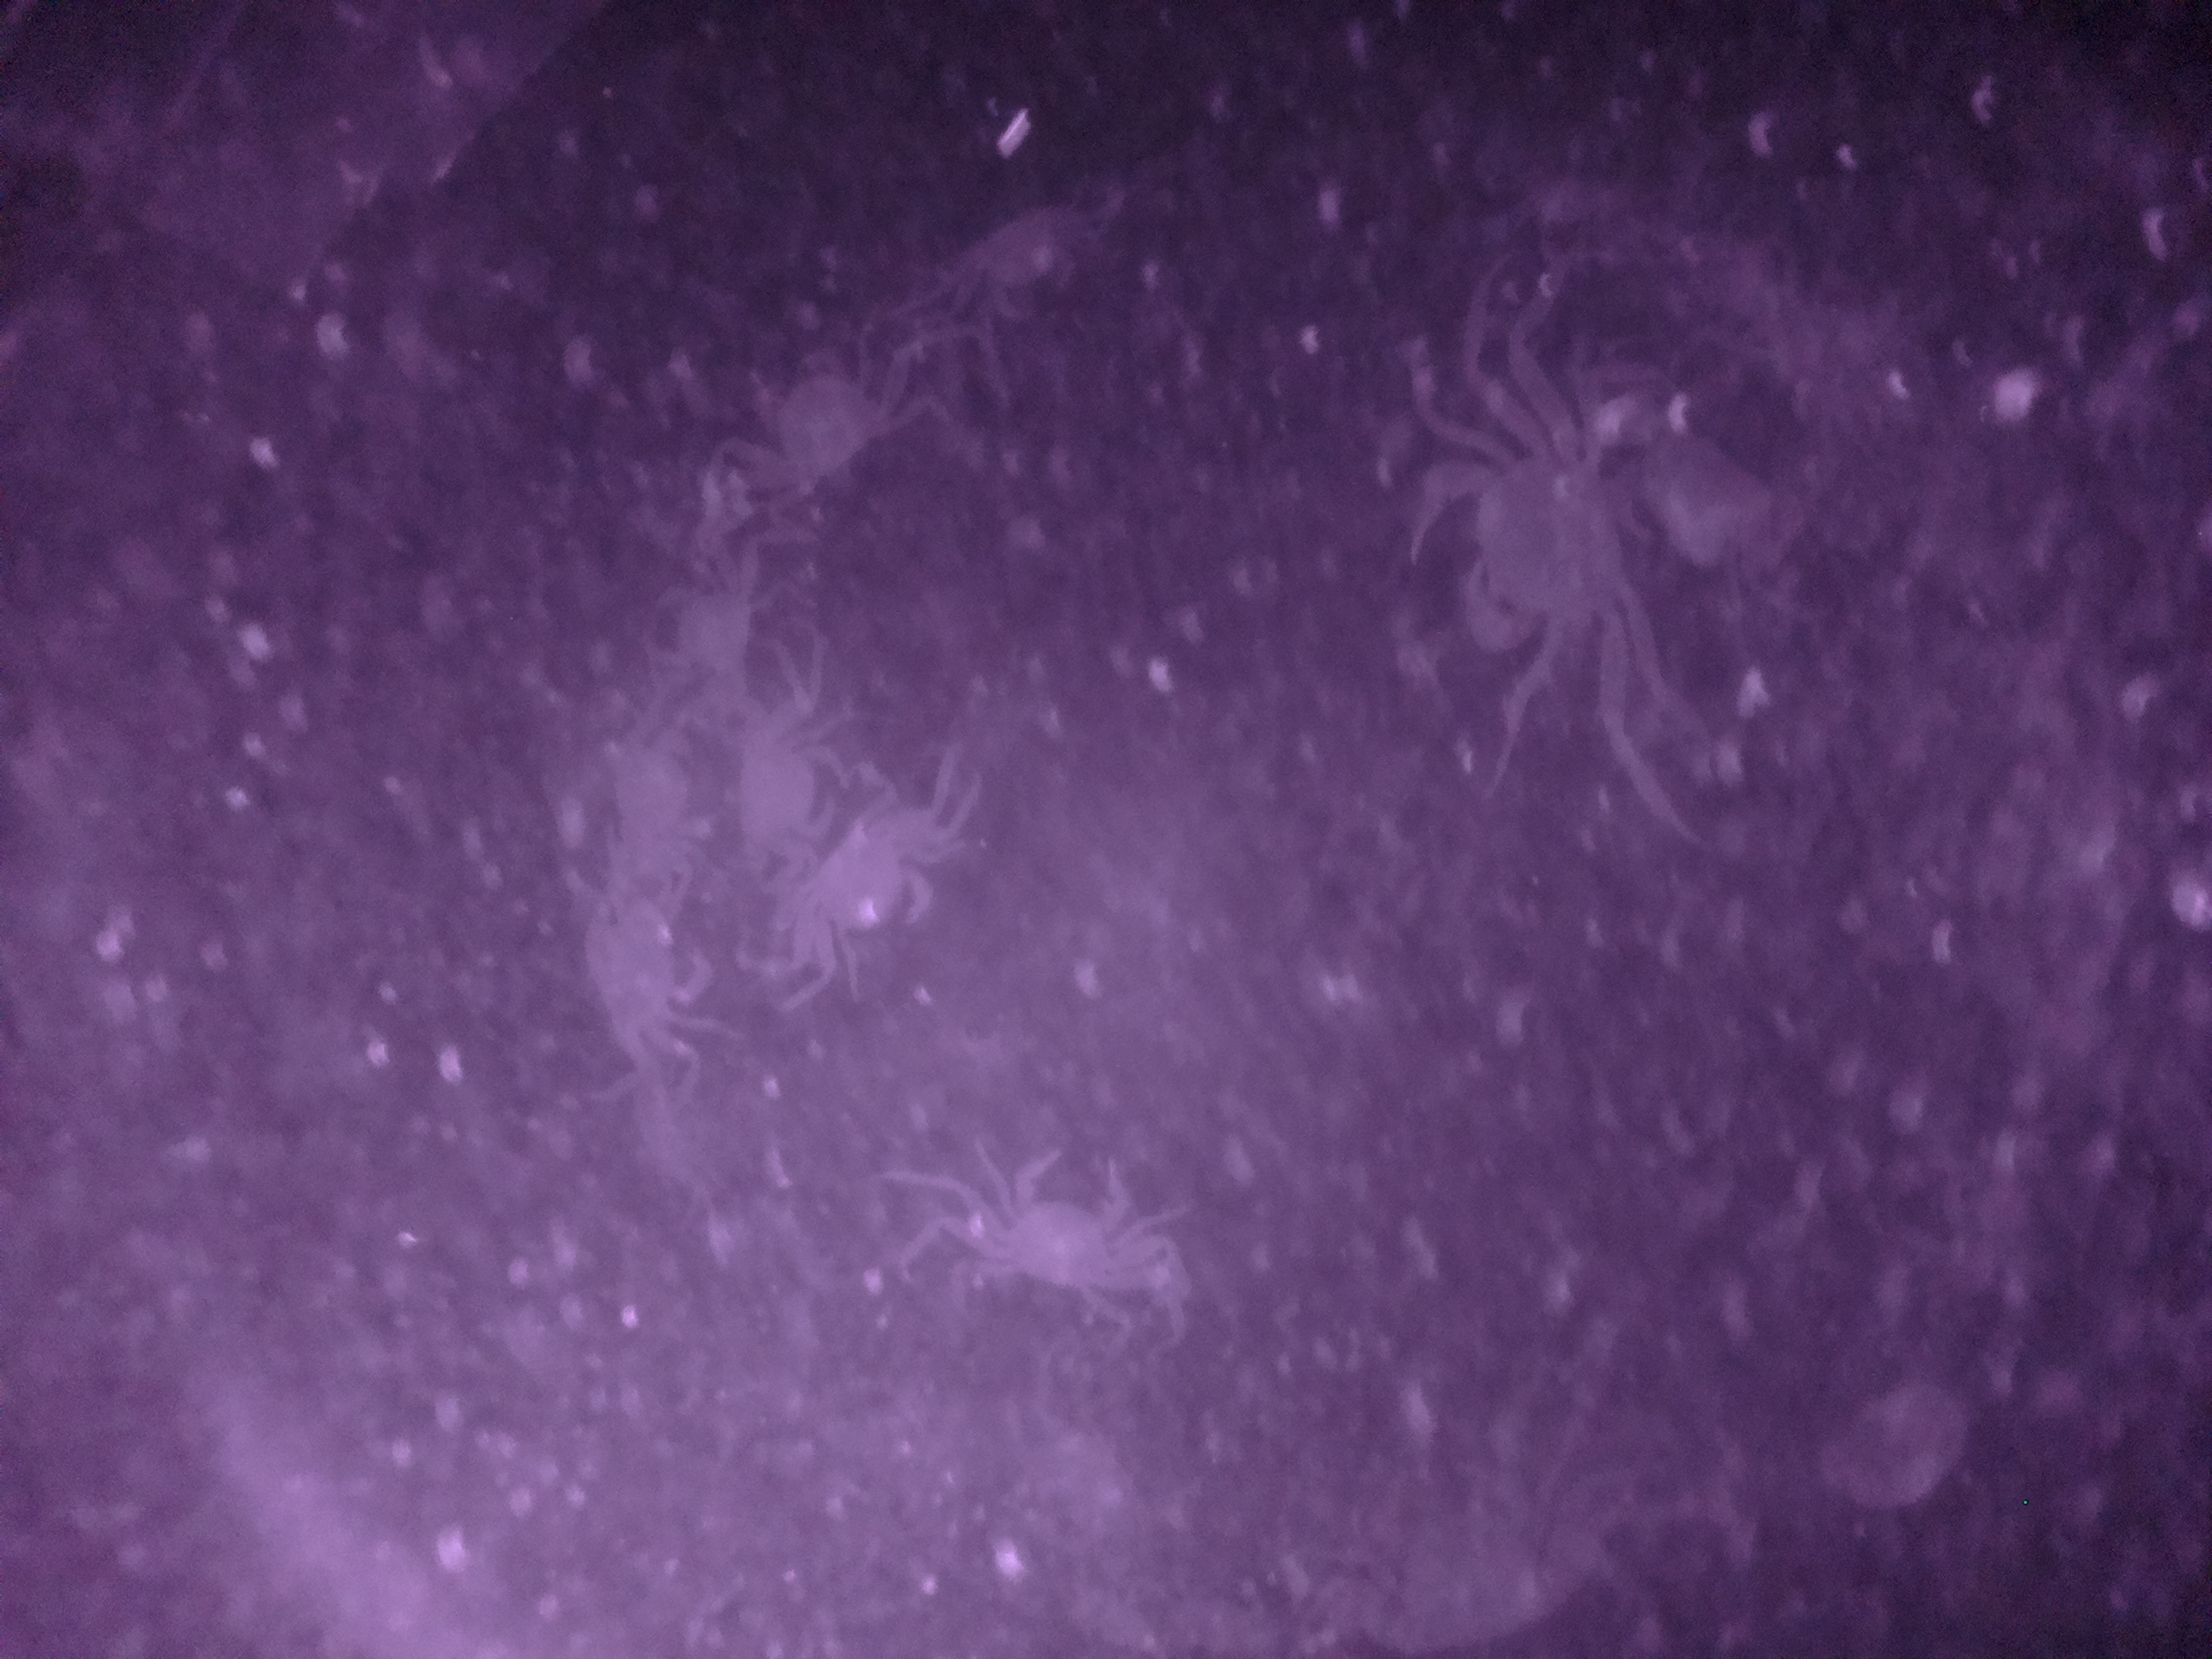Crab: (1392, 397, 1658, 697), (716, 317, 941, 525), (953, 1131, 1170, 1333), (766, 791, 958, 978)
